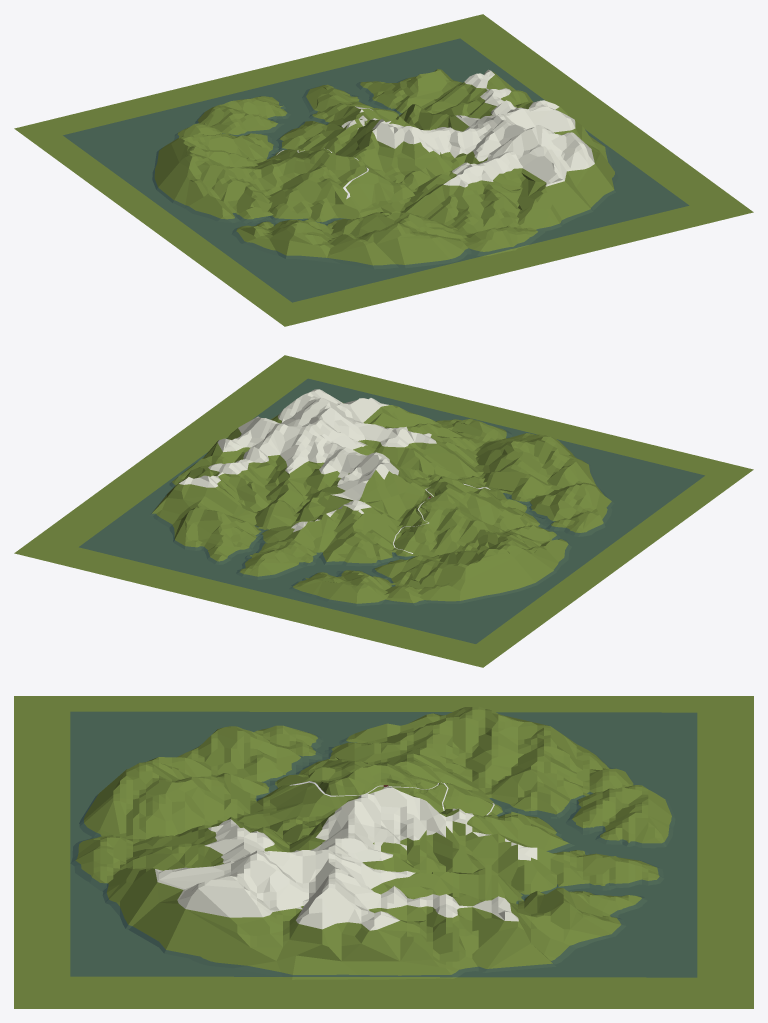
Rendered from soliru-mountains-house 1.fbx.
3 views of the same model, one above another, from view 1: azimuth 30°, elevation 25°; view 2: azimuth 150°, elevation 25°; view 3: azimuth 270°, elevation 25° (orthographic). The views are drawn at different scales.
Parts seen in each view (by area): view 1: Mountains, sea; view 2: Mountains, sea; view 3: Mountains, sea.
Part boxes in pixels (box(x1,y1,x2,y2)): Mountains: box(14, 14, 753, 326); sea: box(63, 38, 688, 302); Mountains: box(14, 355, 753, 667); sea: box(79, 379, 704, 643); Mountains: box(14, 696, 753, 1008); sea: box(70, 712, 696, 977).
Size of the model in its own units: 7273 by 900 by 7273.
